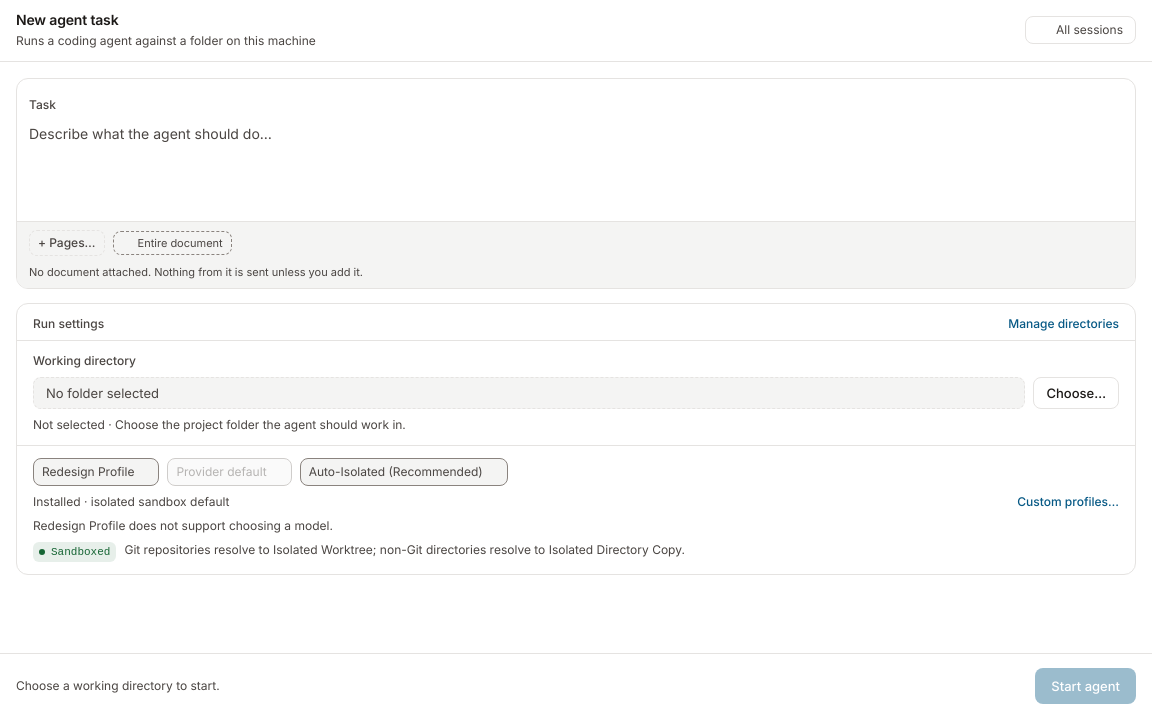
Scenario: 6a — new task view › keeps All sessions in the header before the first run and says the history is empty
Expected: the element with test id "agent-context-section" is shown, [16,78,1136,289]
Click the button "All sessions" at [1080, 30], box [1025,16,1136,44]
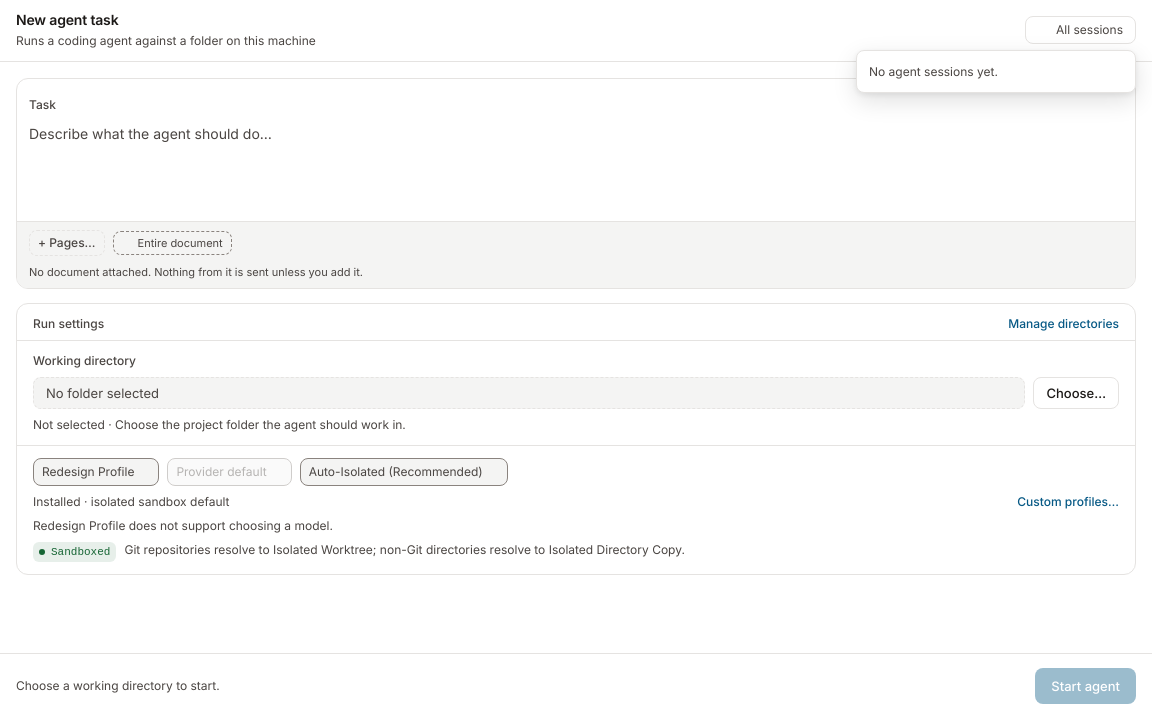
Now the text with test id "agent-session-list-empty" reads "No agent sessions yet.", box [869,64,998,79]
